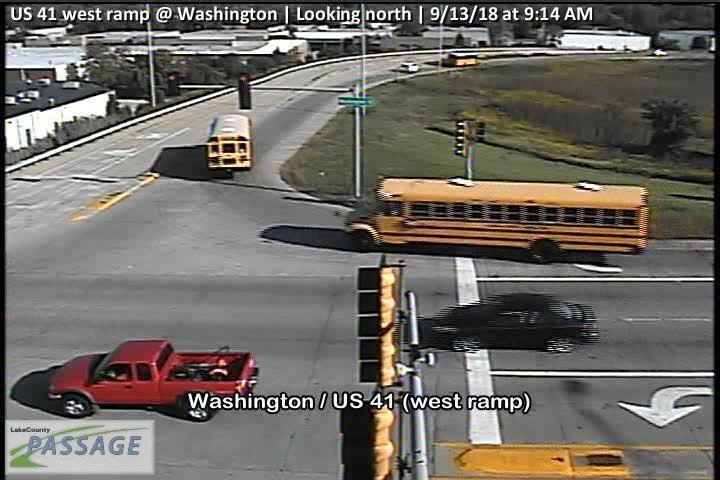Bus: (345, 175, 649, 260)
Sedan: (418, 292, 599, 353)
Truck: (45, 338, 260, 422), (209, 112, 253, 175)
